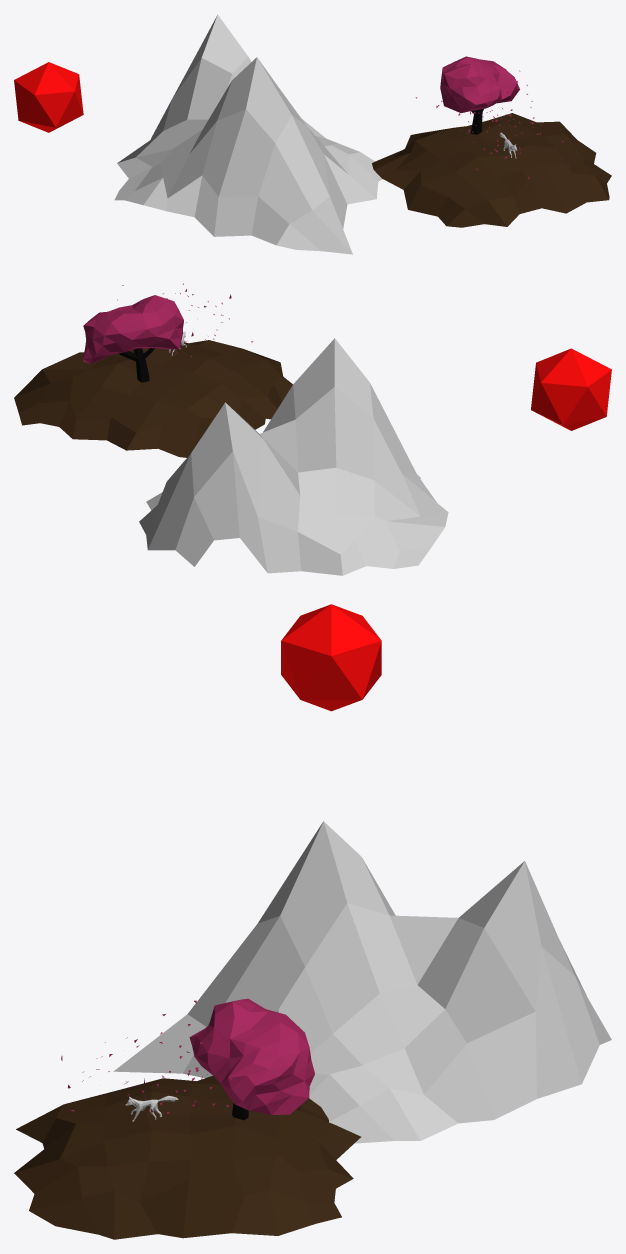
Rendered from Fox.obj.
The picture shows the model from 3 angles, top to bottom: view 1: azimuth 30°, elevation 25°; view 2: azimuth 150°, elevation 25°; view 3: azimuth 270°, elevation 25°; orthographic projection. The views are drawn at different scales.
Parts seen in each view (by area): view 1: Plane.001, Plane, Icosphere.001, Icosphere; view 2: Plane.001, Plane, Icosphere.001, Icosphere, Cylinder.001; view 3: Plane.001, Plane, Icosphere, Icosphere.001.
Part boxes in pixels (box(x1,y1,x2,y2)): Plane.001: box(114, 14, 382, 254); Plane: box(372, 113, 611, 227); Icosphere.001: box(14, 62, 83, 132); Icosphere: box(415, 56, 563, 178); Plane.001: box(139, 338, 448, 575); Plane: box(14, 340, 292, 457); Icosphere.001: box(531, 348, 611, 430); Icosphere: box(83, 283, 253, 363); Cylinder.001: box(119, 348, 154, 382); Plane.001: box(113, 821, 611, 1143); Plane: box(14, 1075, 361, 1239); Icosphere: box(61, 998, 314, 1132); Icosphere.001: box(281, 604, 381, 711).
Bounding box in the file's own units: 92.77 × 32.92 × 60.17.
